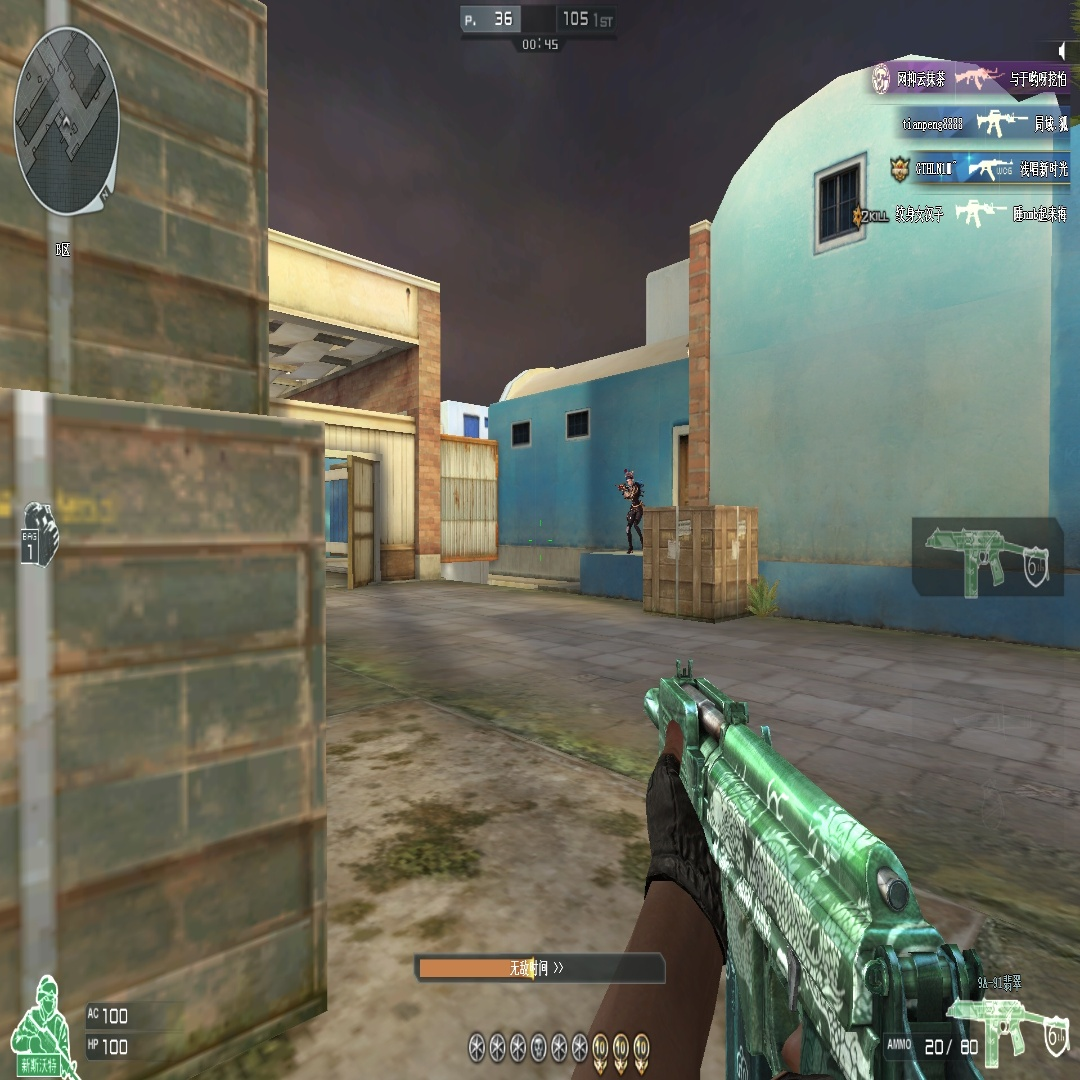head: (624, 471, 634, 487)
p: (619, 471, 644, 552)
